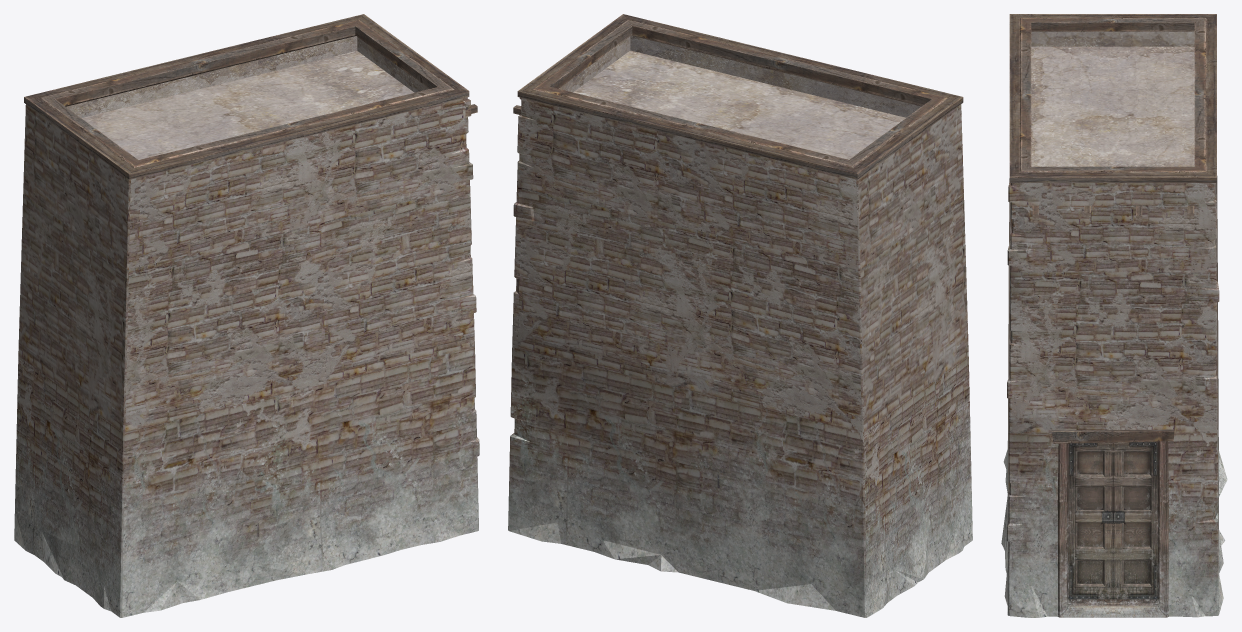
The model's file is bg_eud_common_house02_sm_phs.FBX.
3 renders of one model, left to right at view 1: azimuth 30°, elevation 25°; view 2: azimuth 150°, elevation 25°; view 3: azimuth 270°, elevation 25°, orthographic.
Parts seen in each view (by area): view 1: bg_eud_common_house02_sm_phs; view 2: bg_eud_common_house02_sm_phs; view 3: bg_eud_common_house02_sm_phs.
Part boxes in pixels (x1=…): bg_eud_common_house02_sm_phs: x1=14, y1=14, x2=479, y2=617; bg_eud_common_house02_sm_phs: x1=508, y1=14, x2=972, y2=617; bg_eud_common_house02_sm_phs: x1=1001, y1=14, x2=1227, y2=617.
Size of the model in its own units: 457 by 516 by 243.
